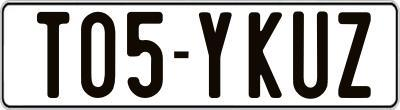0: (80, 9, 115, 97)
5: (127, 11, 166, 102)
K: (248, 11, 286, 97)
T: (37, 11, 74, 101)
U: (292, 9, 333, 102)
Y: (199, 12, 232, 100)
Z: (337, 9, 374, 99)
